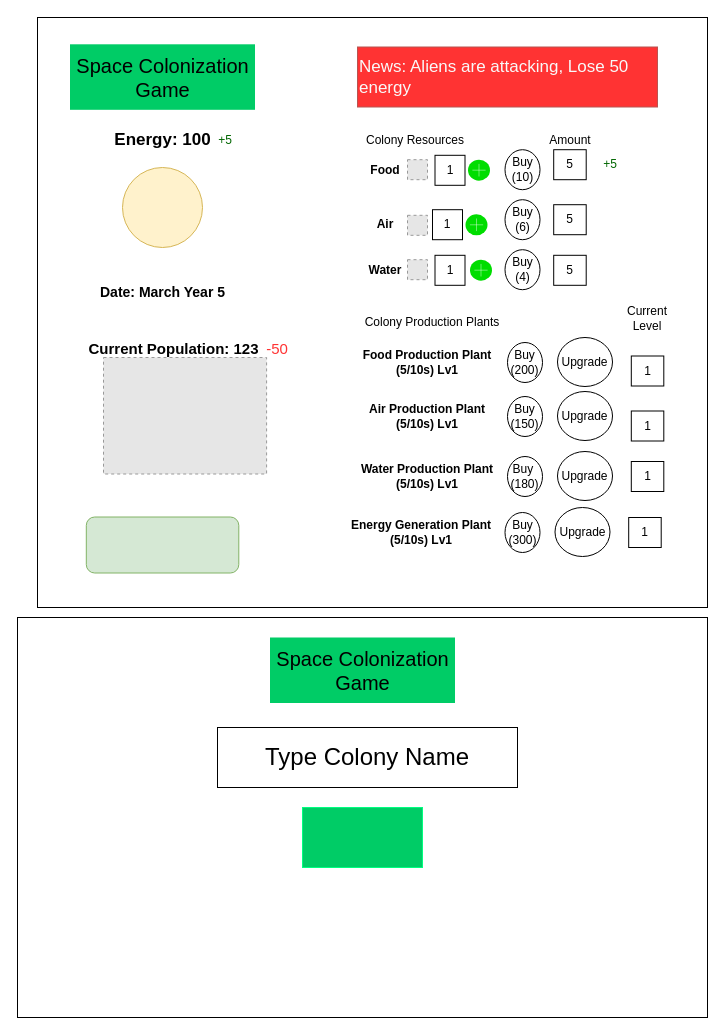
Image size: 725x1035. Some labels were removed from this diagram. Grey dashed boxes stand in for pictures. The centre of each missing label's shape, as x and y in pixels:
"Click for Energy" belongs at (x=162, y=207).
"Morale: Very High" belongs at (x=162, y=544).
"Start" belongs at (x=362, y=837).
